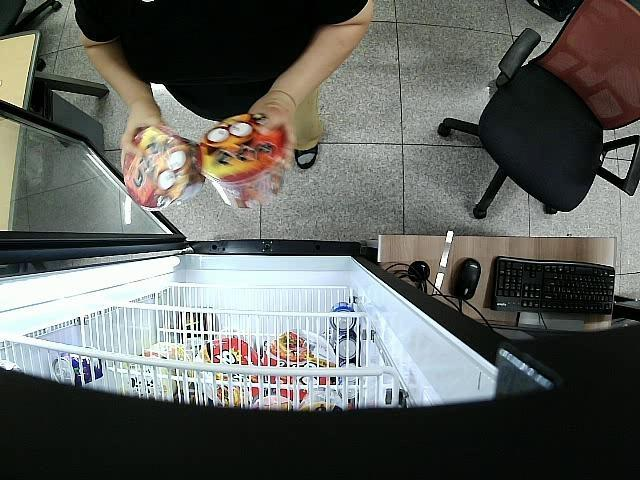05_nuguri_L: (196, 114, 290, 207), (123, 126, 198, 213)
